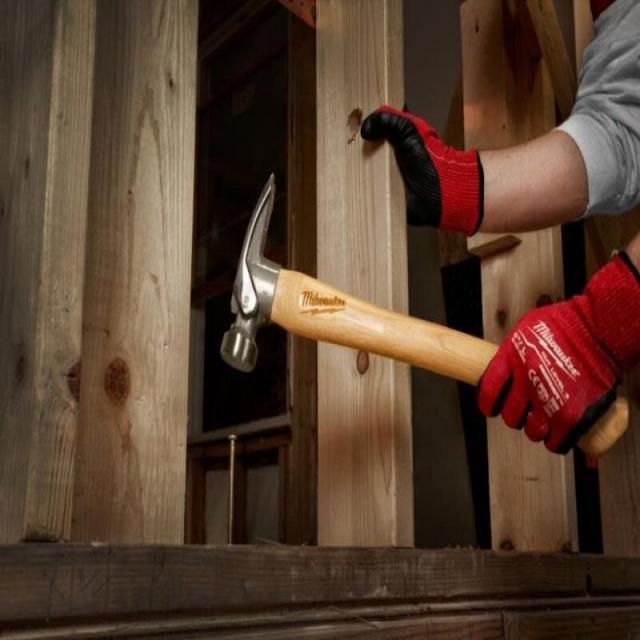hammer: (216, 164, 638, 470)
